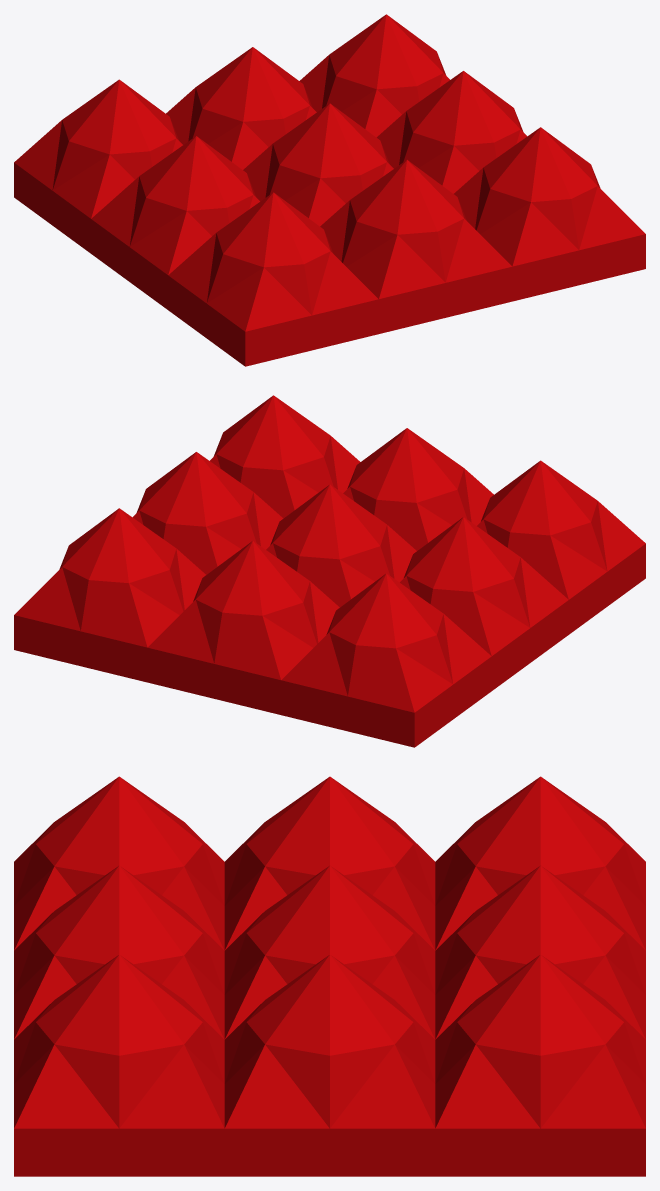
The model's file is spiketrap.obj.
The picture shows the model from 3 angles, top to bottom: view 1: azimuth 30°, elevation 25°; view 2: azimuth 150°, elevation 25°; view 3: azimuth 270°, elevation 25°; orthographic projection. The views are drawn at different scales.
Visible parts, largest first — view 1: Spike_Trap_Plane; view 2: Spike_Trap_Plane; view 3: Spike_Trap_Plane.
Boxes of the visible parts, bbox=[...] form: Spike_Trap_Plane: bbox=[14, 14, 645, 366]; Spike_Trap_Plane: bbox=[14, 395, 645, 747]; Spike_Trap_Plane: bbox=[14, 776, 645, 1176].
Size of the model in its own units: 6 by 1.86 by 6.
